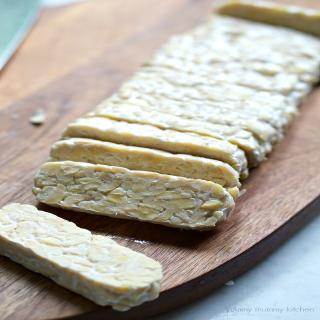Tempe: (1, 203, 164, 313), (32, 161, 240, 232), (48, 138, 247, 202), (61, 117, 251, 180)
